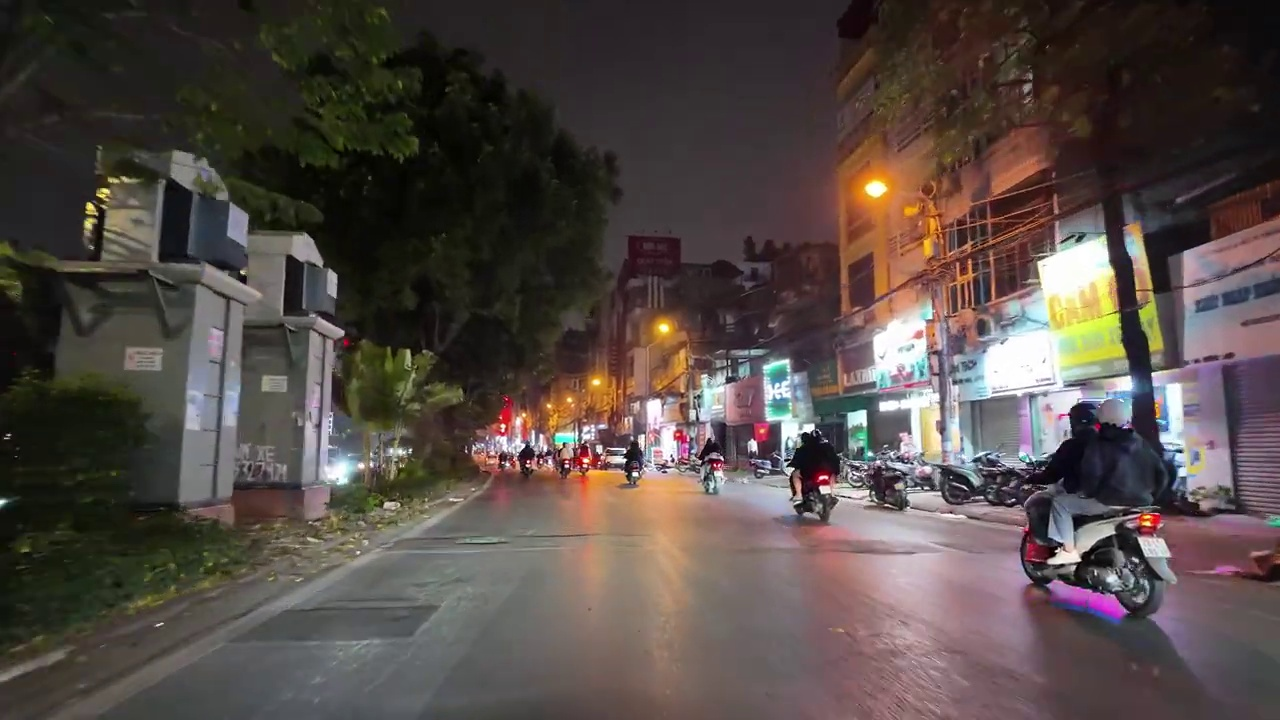acesa: (855, 172, 894, 209), (650, 316, 679, 342)
